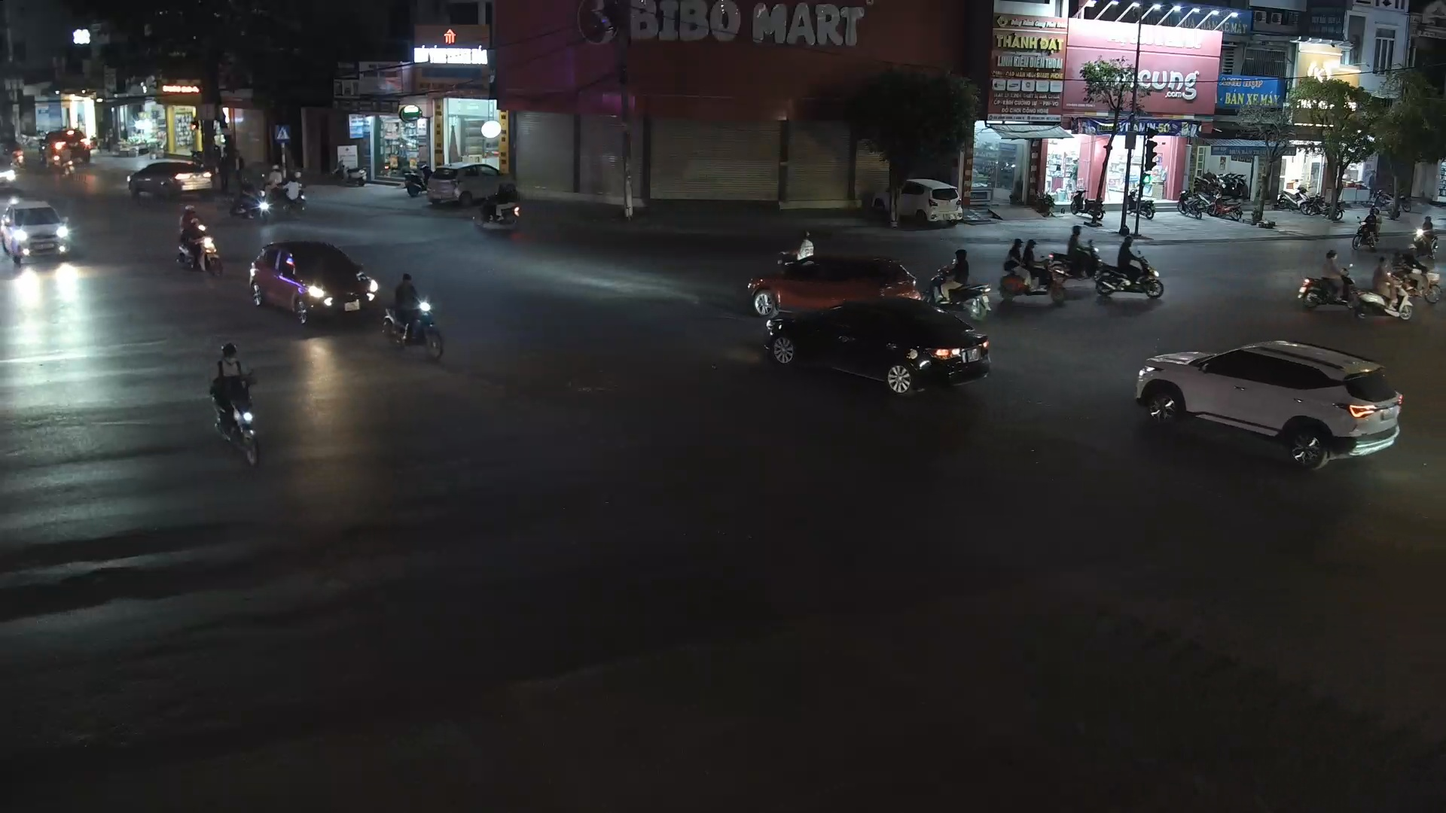car: (1133, 340, 1404, 470), (755, 295, 992, 400), (748, 250, 927, 325), (249, 232, 380, 327), (0, 195, 73, 268)
motorbike: (1309, 246, 1418, 321), (207, 340, 265, 467), (379, 269, 449, 363), (1091, 227, 1165, 306), (926, 245, 995, 324), (997, 236, 1069, 309), (1295, 244, 1366, 317), (174, 201, 223, 277)
